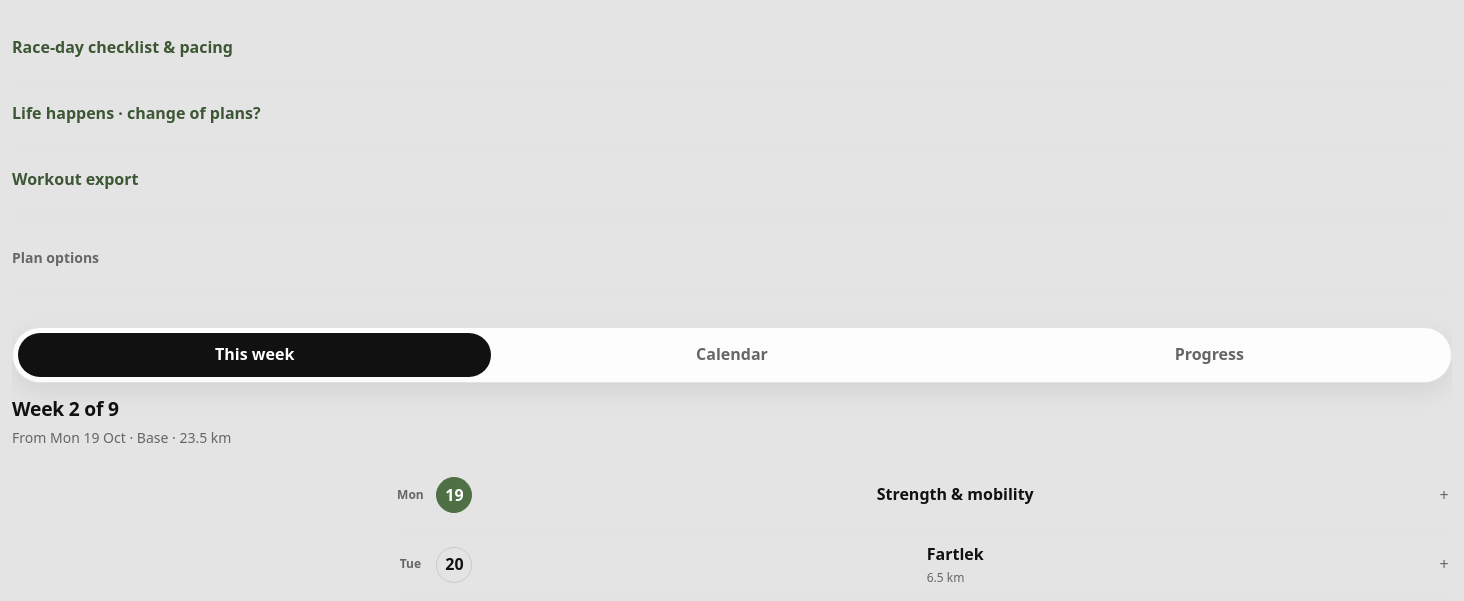
Test: the overview › keeps running insights in Progress without adding another plan tab
Click the tab "Progress" at (1209, 355), box [973,333,1446,377]
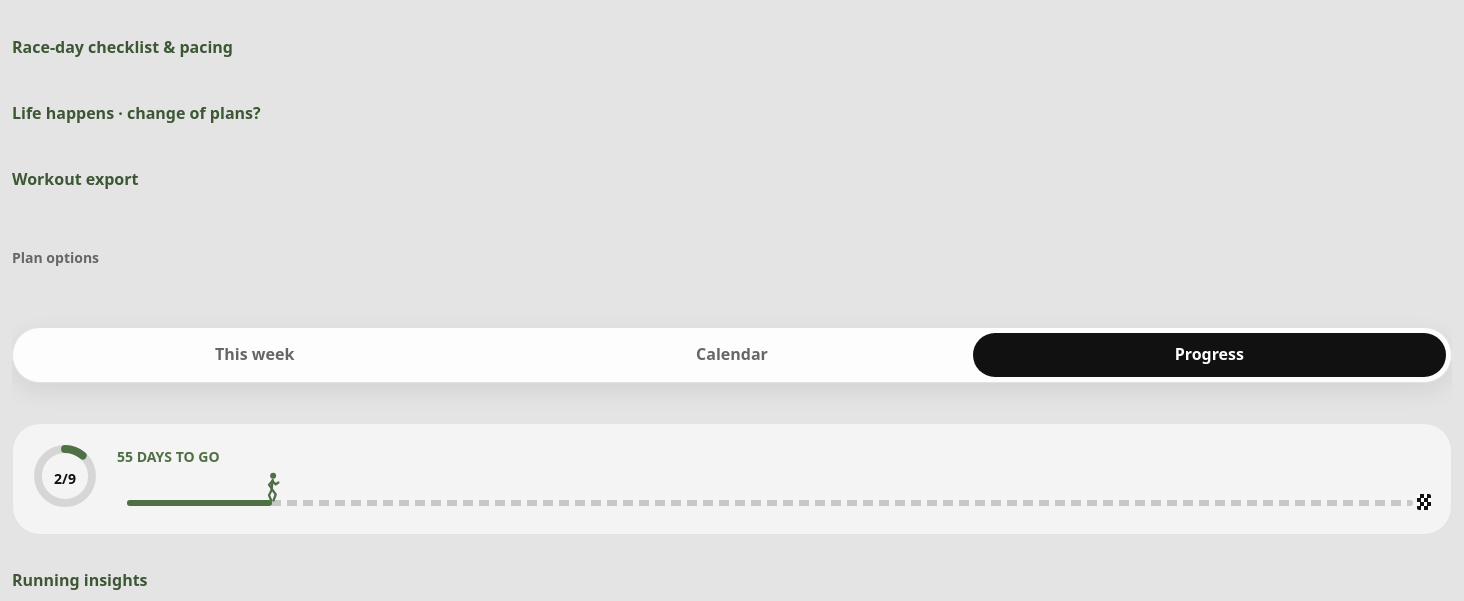
Click the heading "Running insights" at (80, 580), box [12,569,148,591]
(page scrolled)
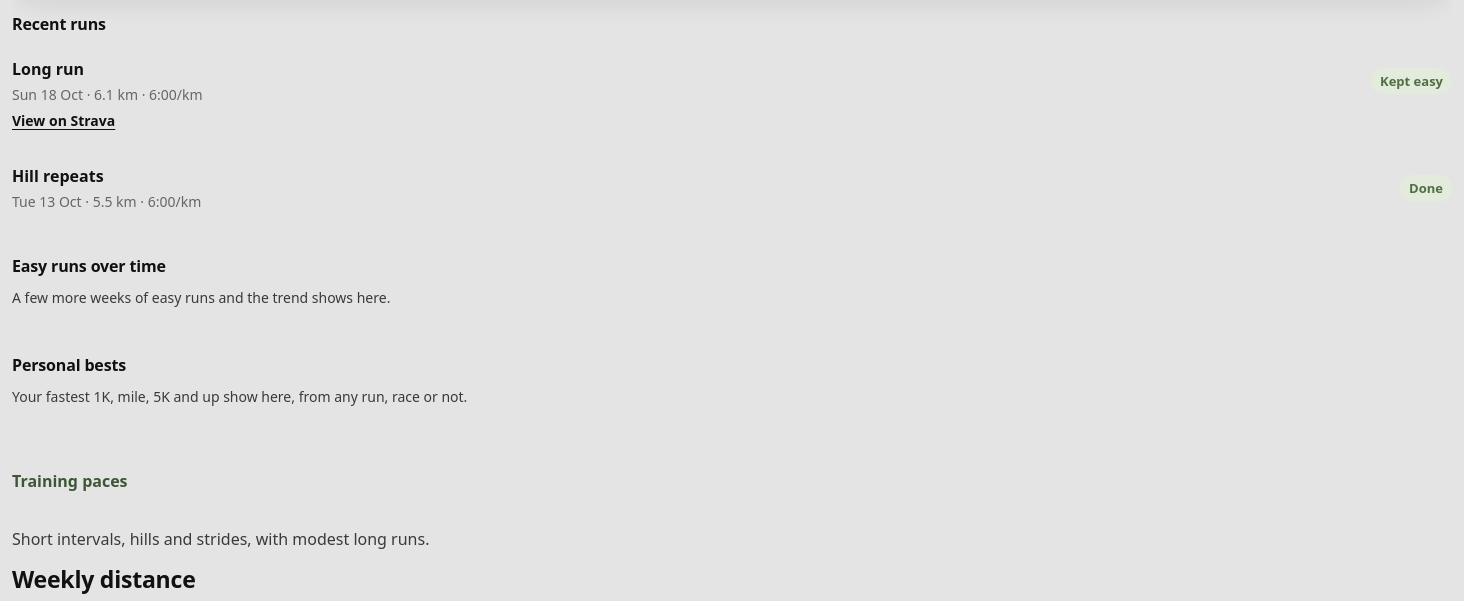
Now the heading "Easy runs over time" is shown, box [12,255,166,277]
